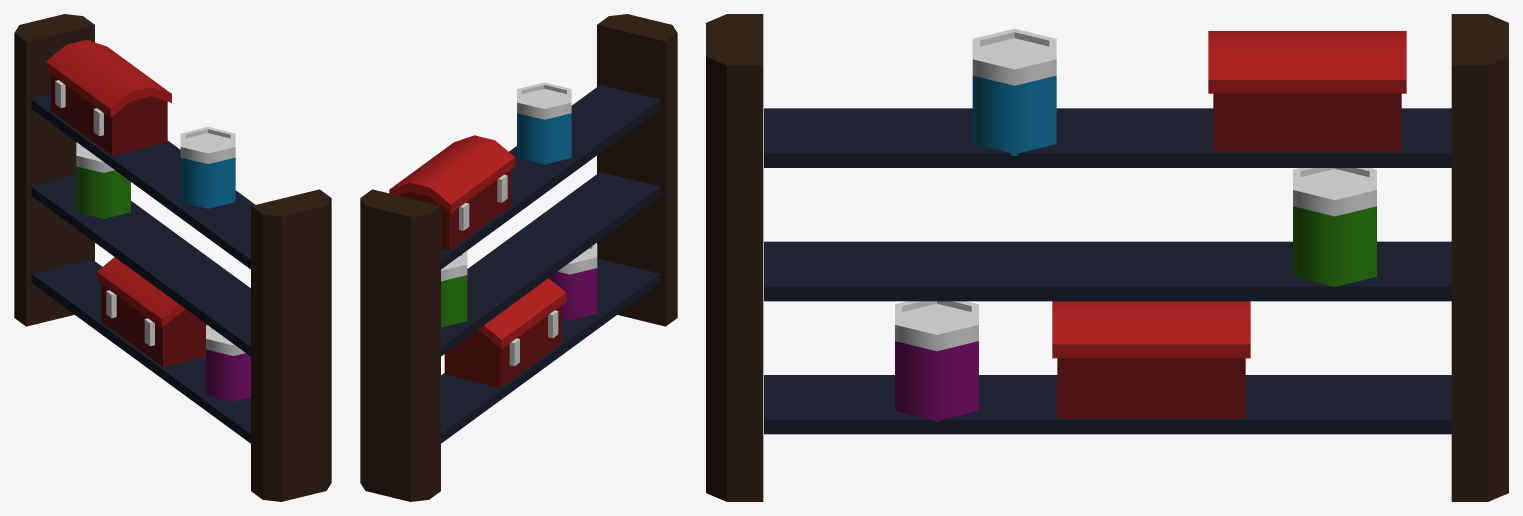
File: Stillage_1.FBX
3 renders of one model, left to right at view 1: azimuth 30°, elevation 25°; view 2: azimuth 150°, elevation 25°; view 3: azimuth 270°, elevation 25°, orthographic. The views are drawn at different scales.
Visible parts, largest first — view 1: Stelaj_1; view 2: Stelaj_1; view 3: Stelaj_1.
Part boxes in pixels (x1,y1,x2,y2): Stelaj_1: (14,14,331,501); Stelaj_1: (360,14,677,501); Stelaj_1: (706,14,1508,501).
Size of the model in its own units: 4.53 by 18.06 by 29.94.
